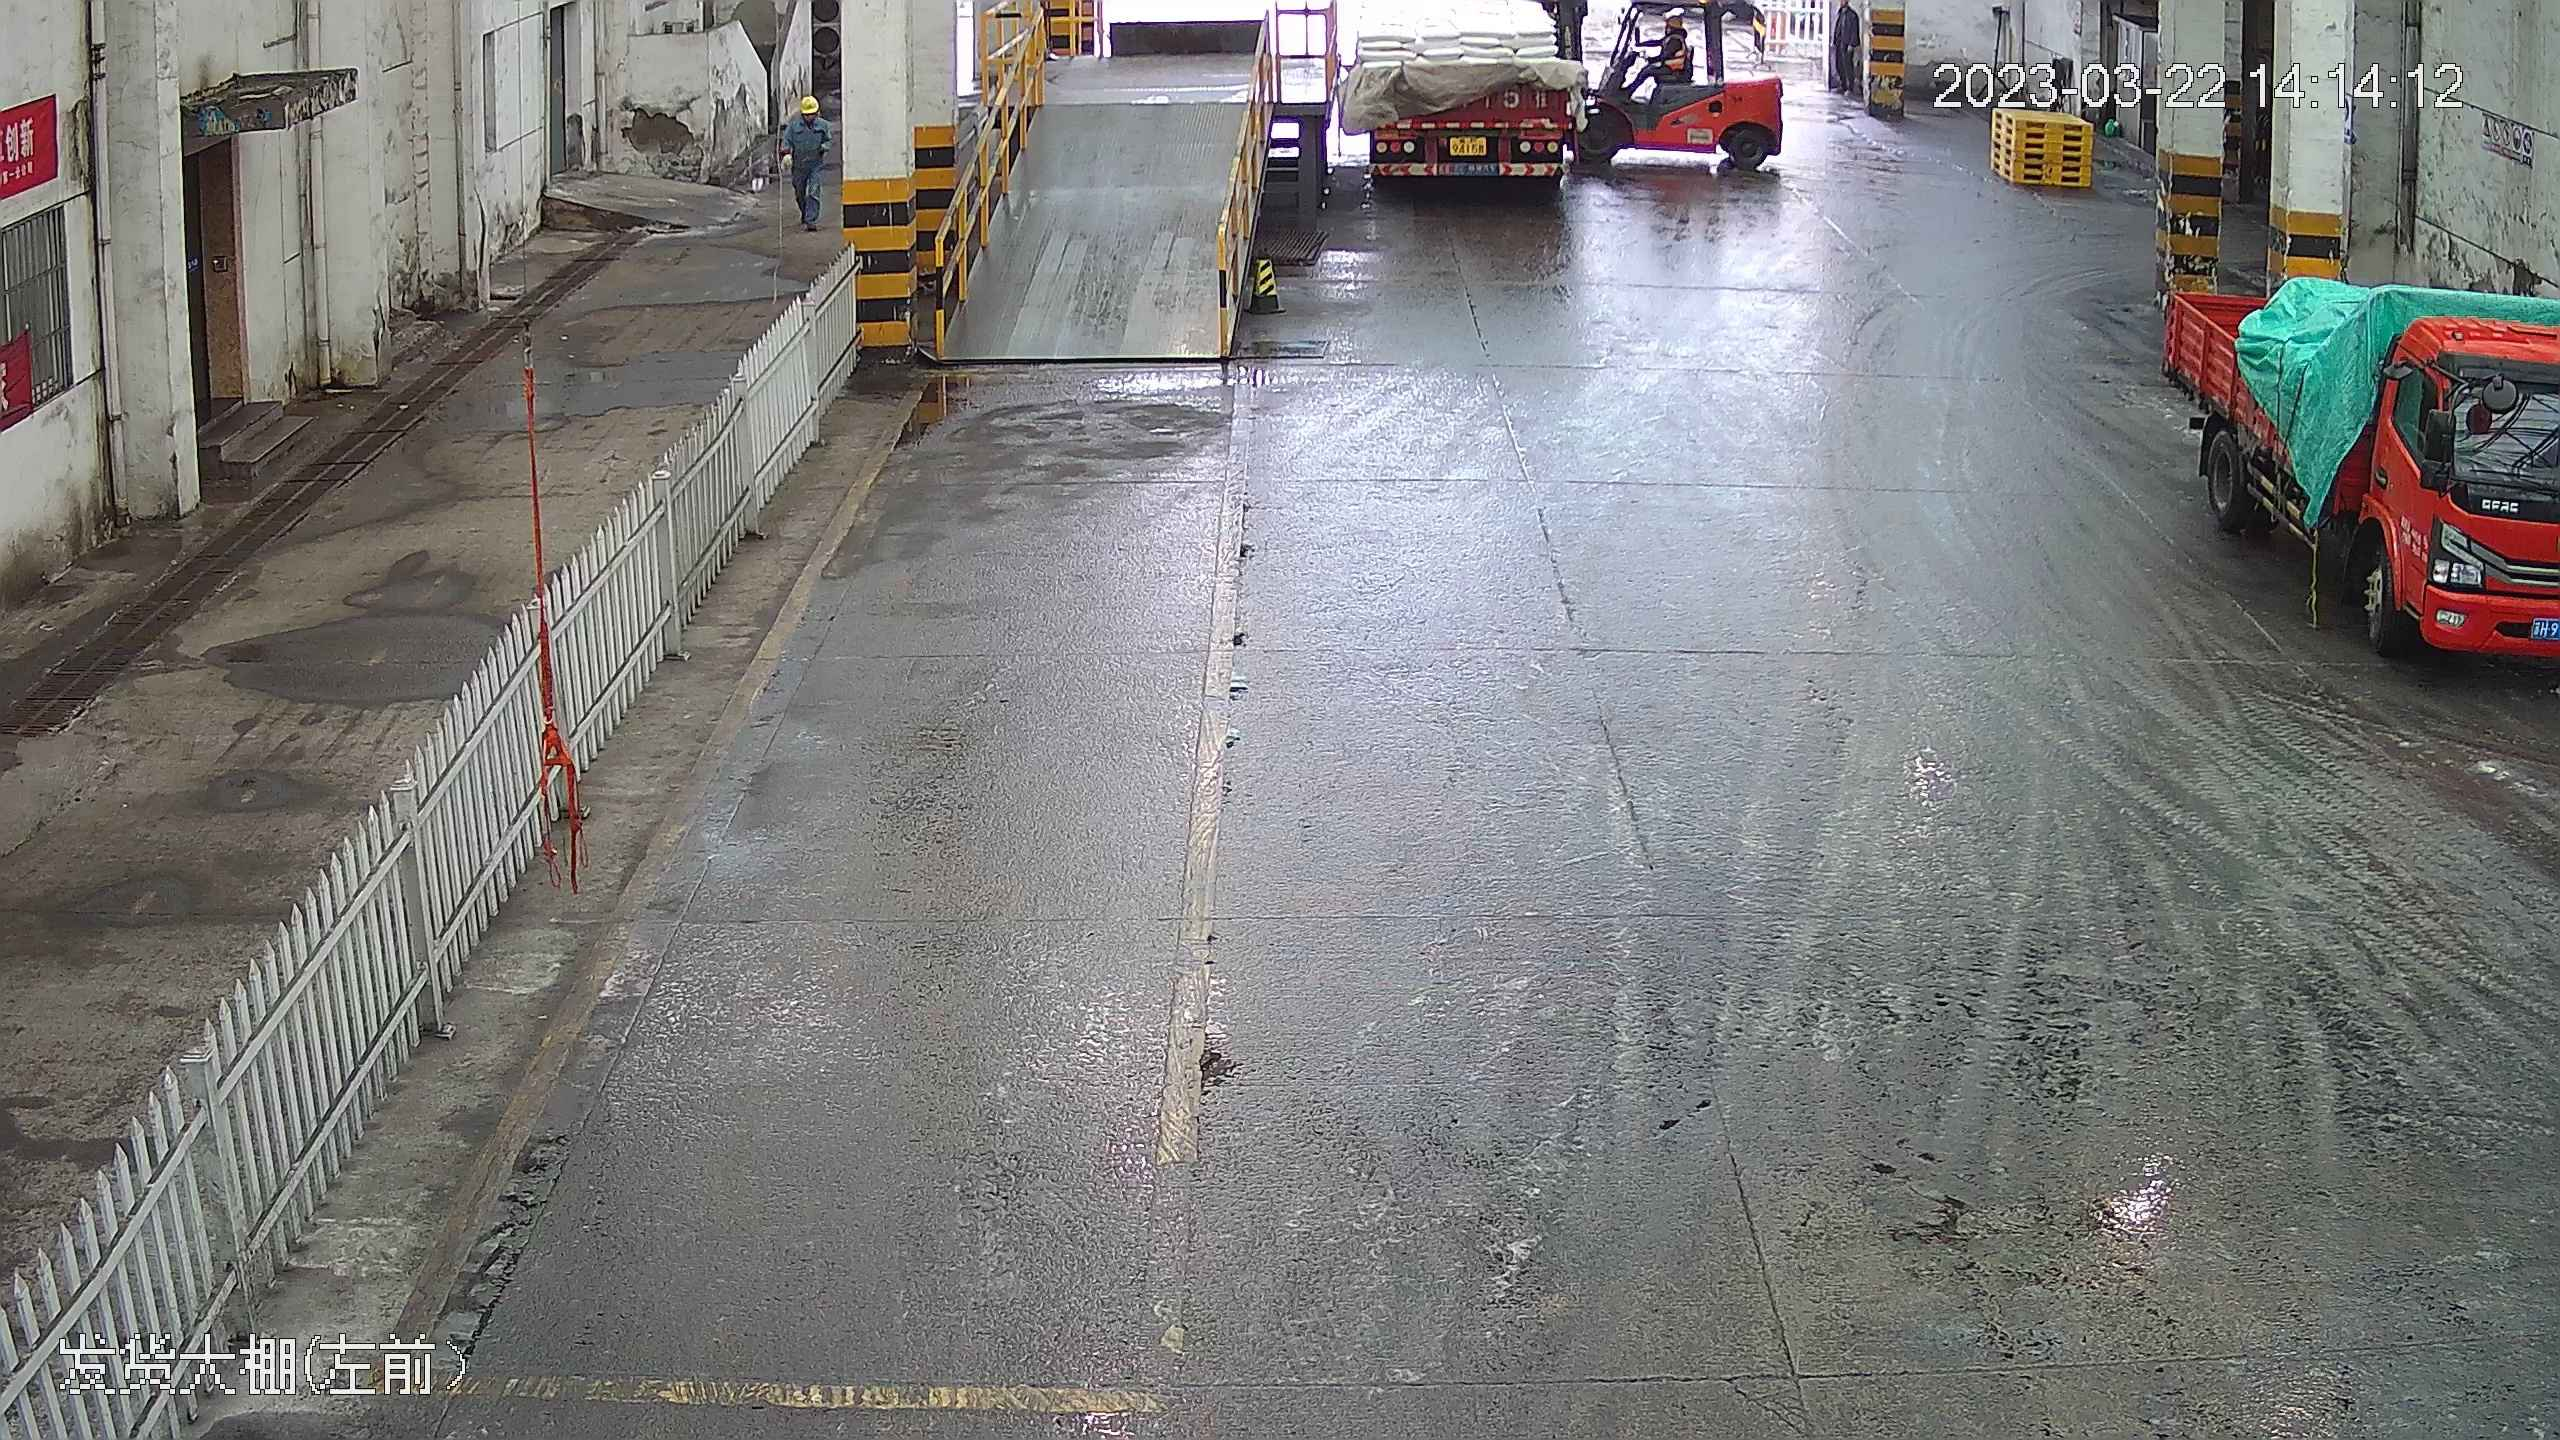head: (1653, 13, 1687, 61)
helmet: (1665, 14, 1684, 29)
people: (1624, 6, 1697, 94), (1830, 1, 1863, 93)
truck: (2158, 270, 2560, 683), (1329, 1, 1610, 190)
